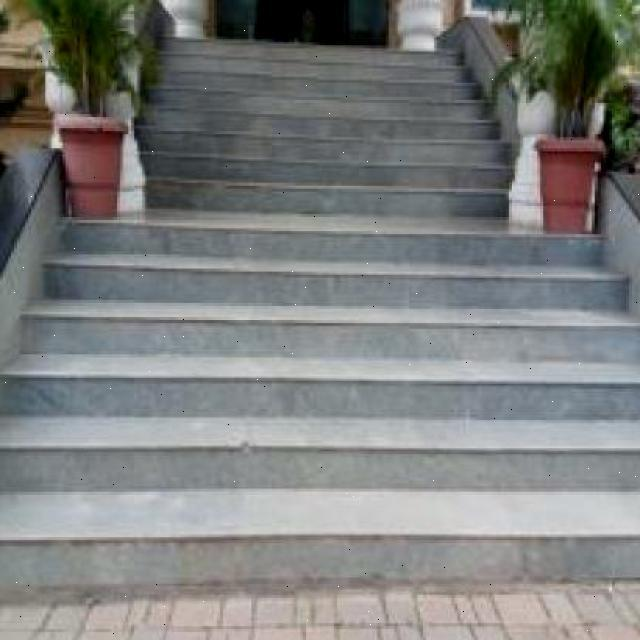stair: (22, 300, 615, 612)
